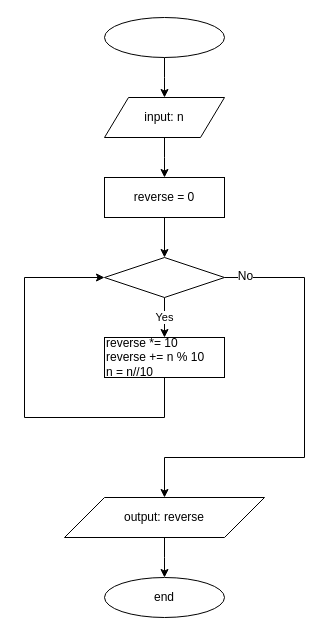
Image size: 330x635. Some labels were removed from this diagram. Each missing label, with the centre of its shape:
begin: the point at 164,37
whlie n != 0: the point at 164,277
